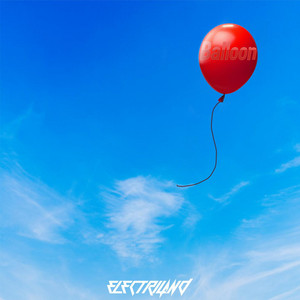Balloon: (198, 23, 259, 94)
